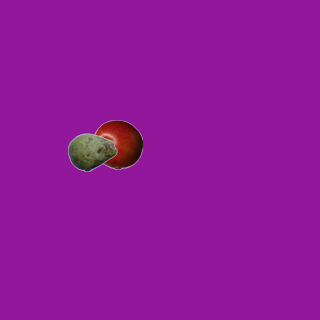Apple Braeburn: (92, 119, 142, 169)
Pear Stone: (67, 127, 117, 177)
